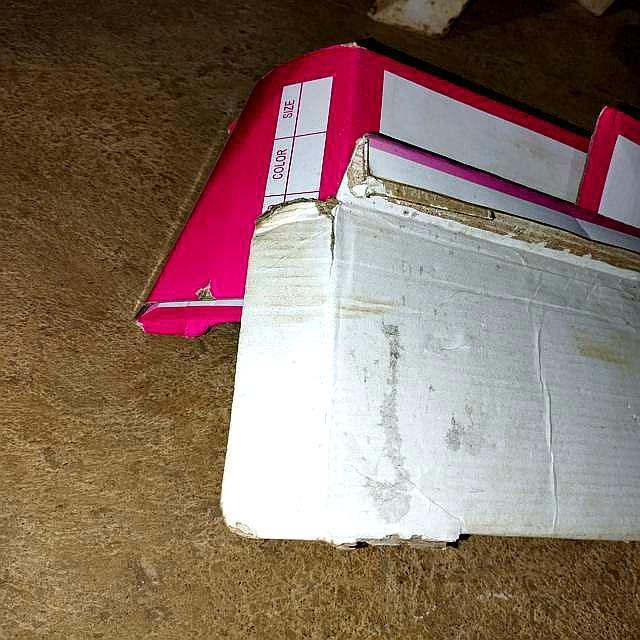Biodegradable: (139, 43, 640, 543)
